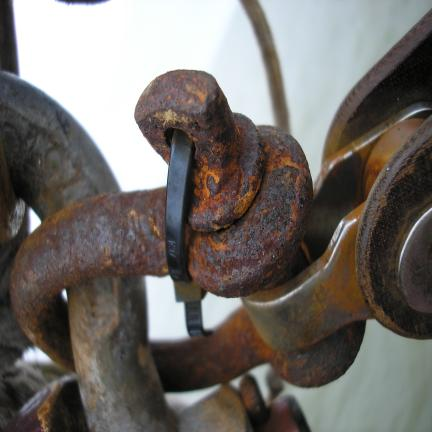karat: (134, 67, 313, 297)
